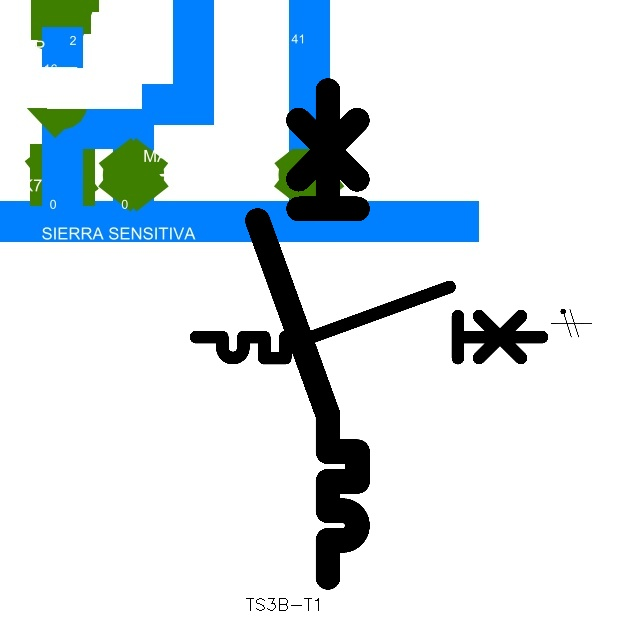interruptor_termomagnetico: (245, 78, 370, 590), (187, 278, 551, 367)
